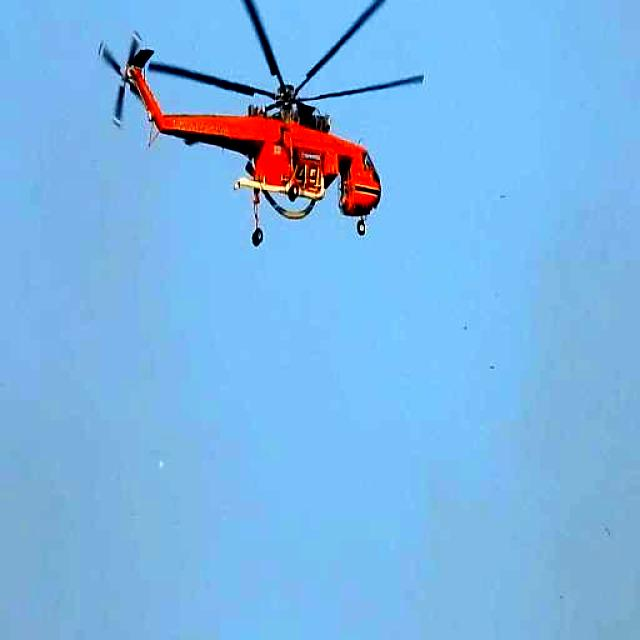drone: (99, 0, 445, 278)
